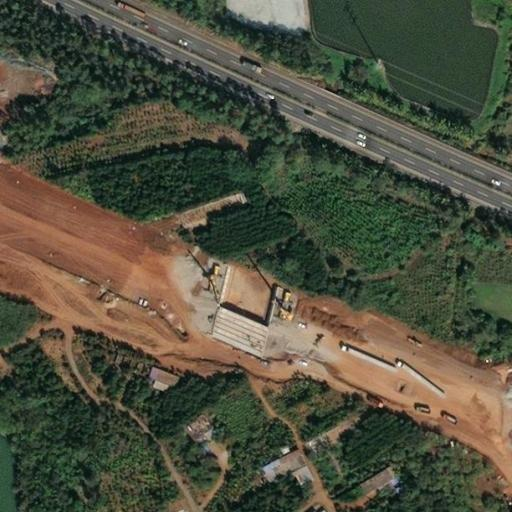building: (204, 299, 273, 354), (250, 448, 293, 480), (348, 465, 382, 492), (172, 411, 200, 438), (136, 365, 167, 387), (281, 466, 300, 486), (140, 379, 158, 392)
